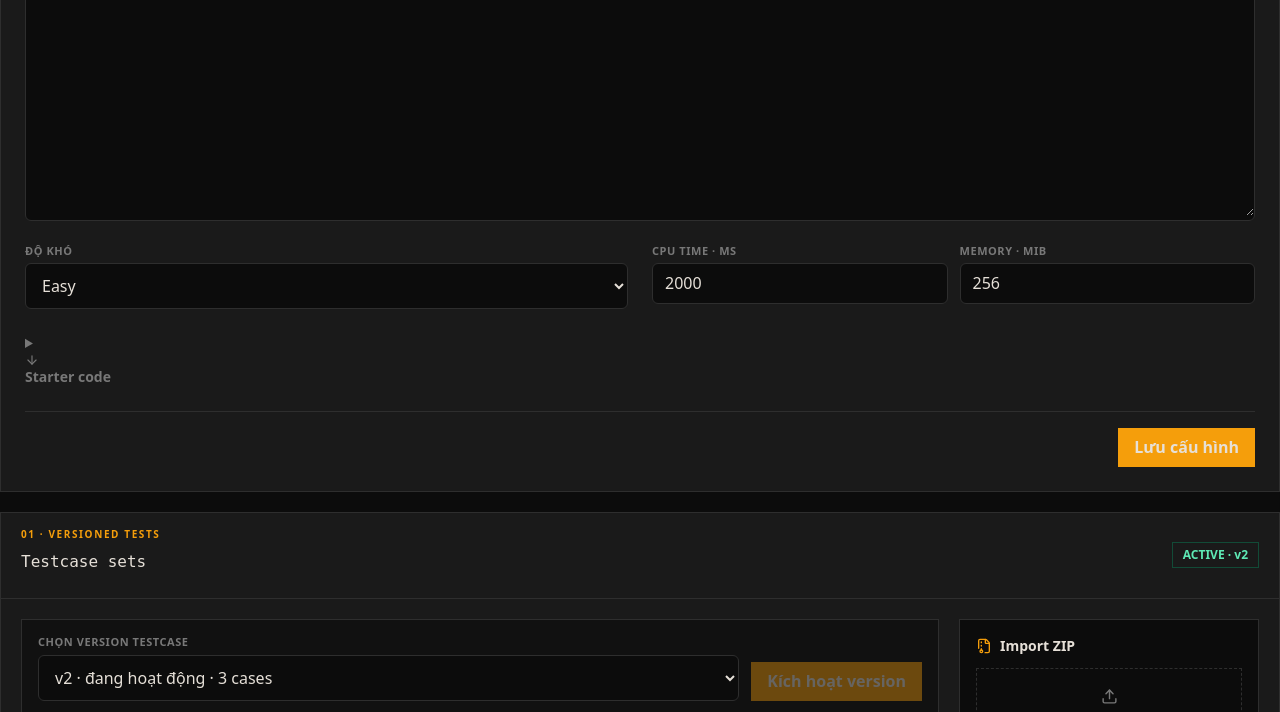
Test case: AdminProblemsTab testcase sample loading › shows one starter language at a time and lets the admin cycle languages
(page scrolled)
Check: the text "ACTIVE · v2" is shown, box [1172,542,1259,568]
Click the heading "Starter code".
click(68, 370)  # box [25,353,111,386]
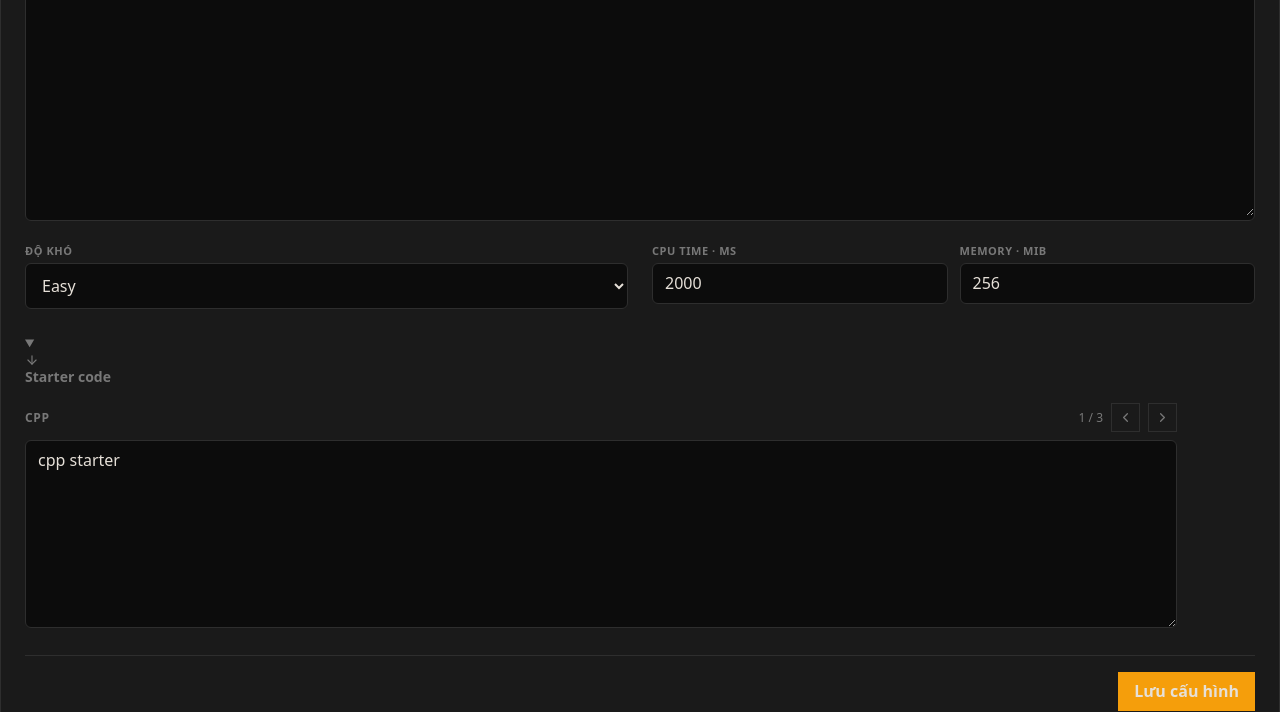
Check: the field labelled "java" is not shown
Check: the text box named "cpp" holds "cpp starter", box [25,440,1177,628]
Click the button named "Ngôn ngữ tiếp theo".
click(1162, 418)  # box [1148,403,1177,432]
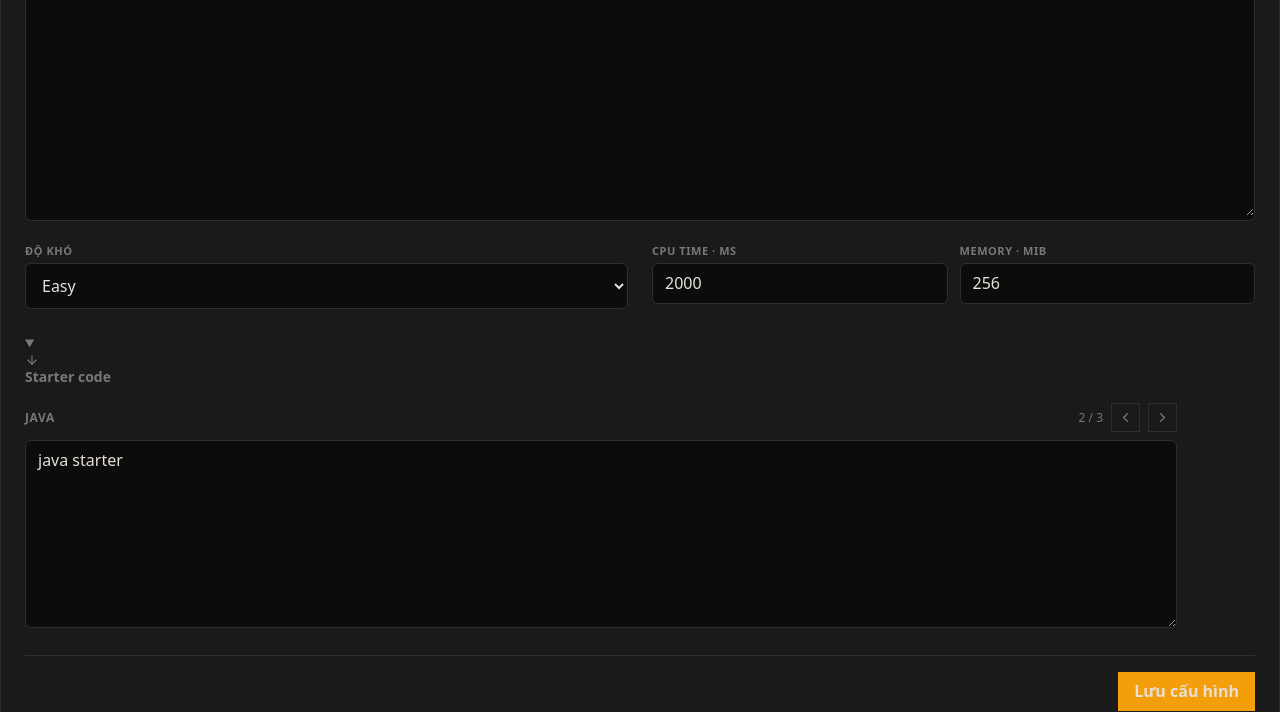
Check: the text box named "java" holds "java starter", box [25,440,1177,628]
Check: the text labelled "cpp" is gone
